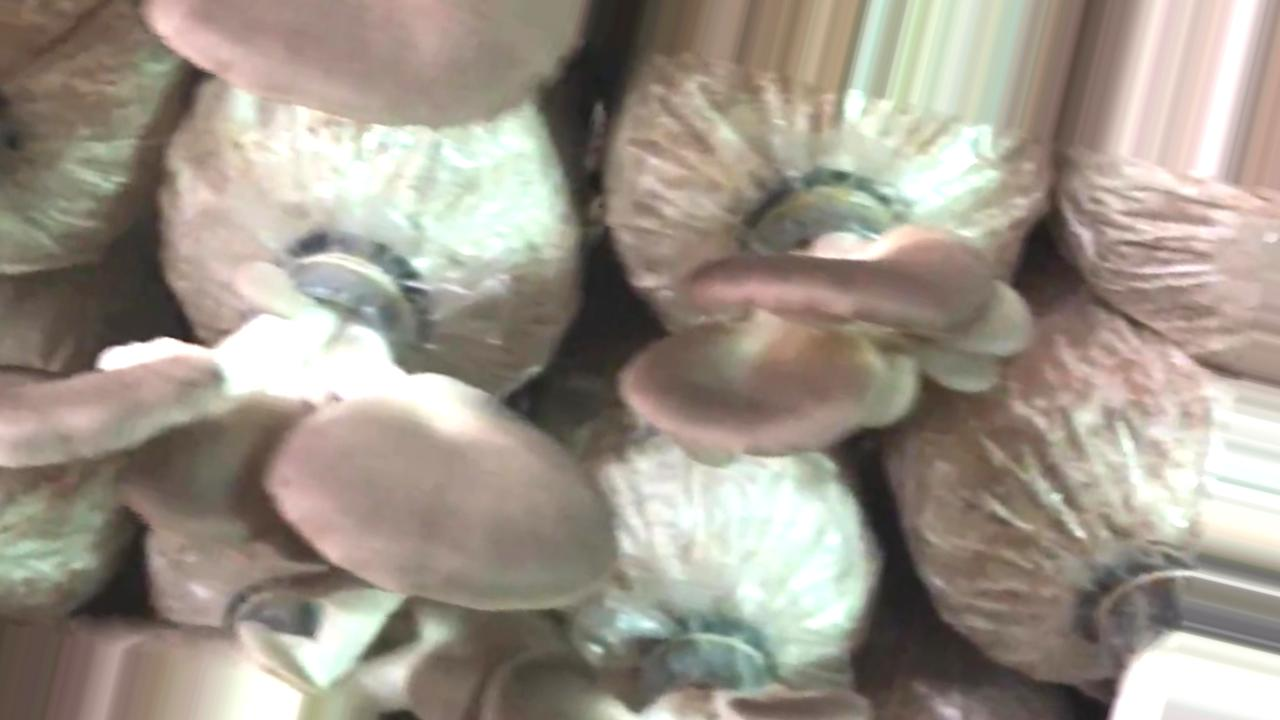nam: (1, 259, 618, 611), (621, 157, 1039, 466), (149, 5, 596, 139)
